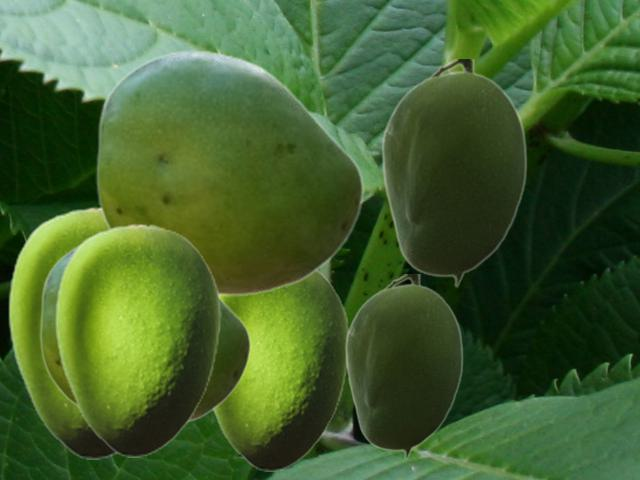green_mango: (95, 49, 363, 296), (54, 223, 220, 456), (39, 247, 250, 424), (380, 59, 526, 287), (7, 206, 119, 458), (211, 269, 349, 470), (344, 274, 462, 459)
